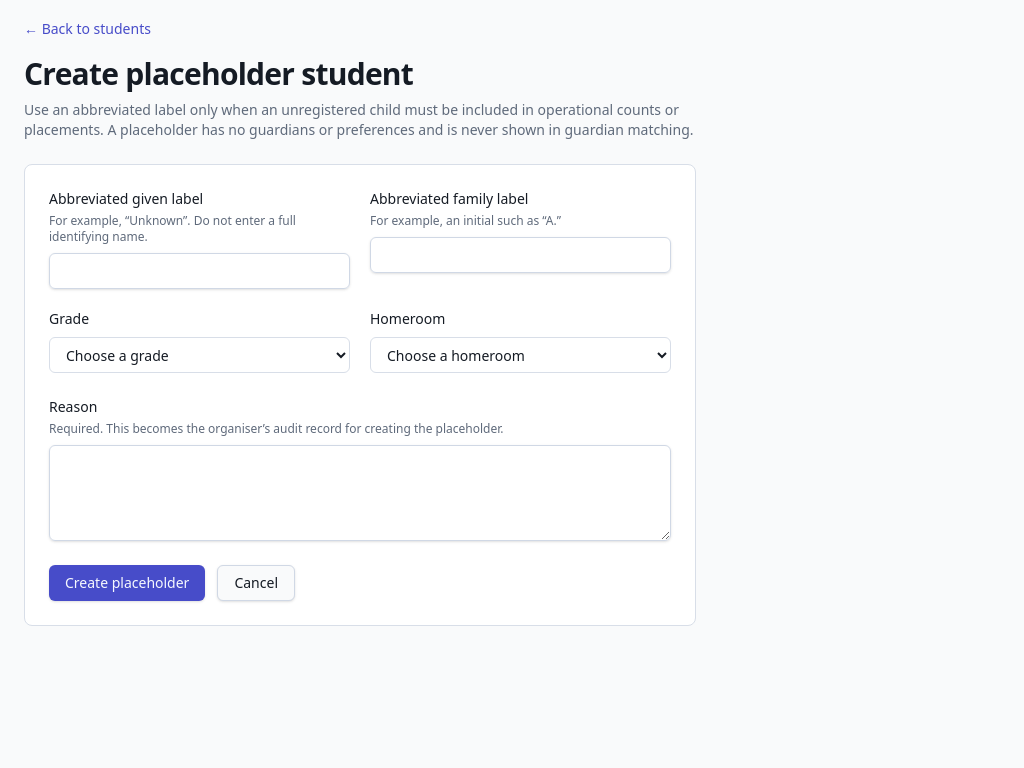
Test: placeholder workflows › creates an audited placeholder with an abbreviated label and vocabulary identifiers
In the field labelled "Abbreviated given label": point(200, 271) 49,253 -> 350,289, type "Unknown"
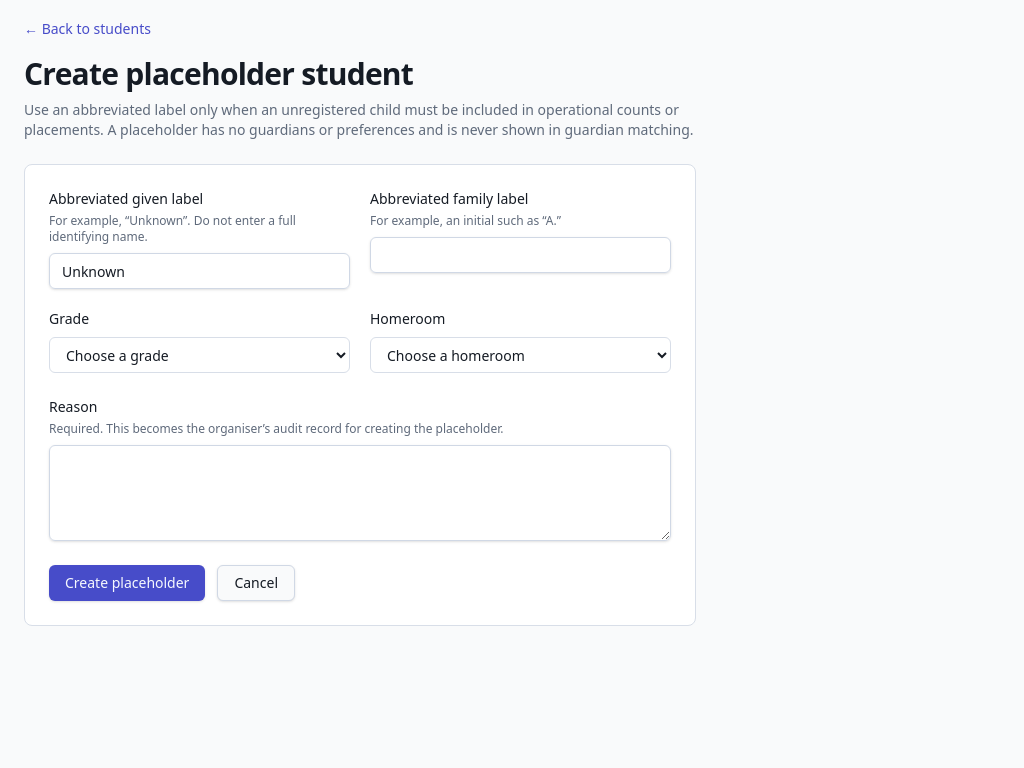
In the field labelled "Abbreviated family label": point(520, 255) 370,237 -> 671,273, type "A."
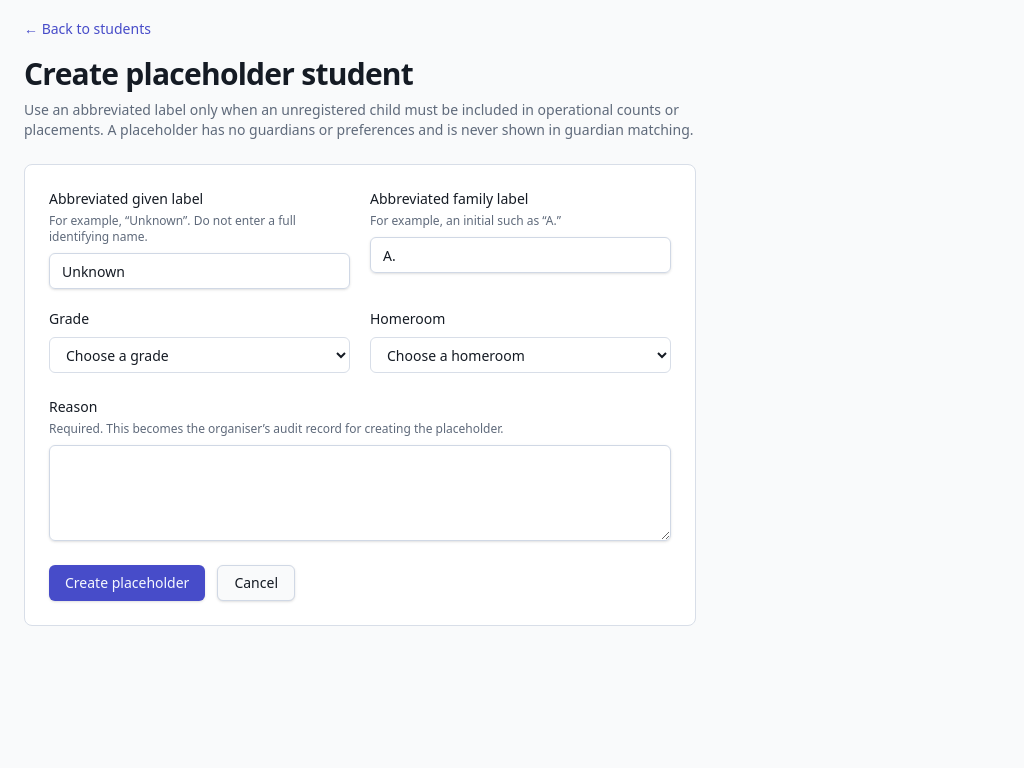
Select "First grade" in the dropdown labelled "Grade": point(200, 355) 49,337 -> 350,373
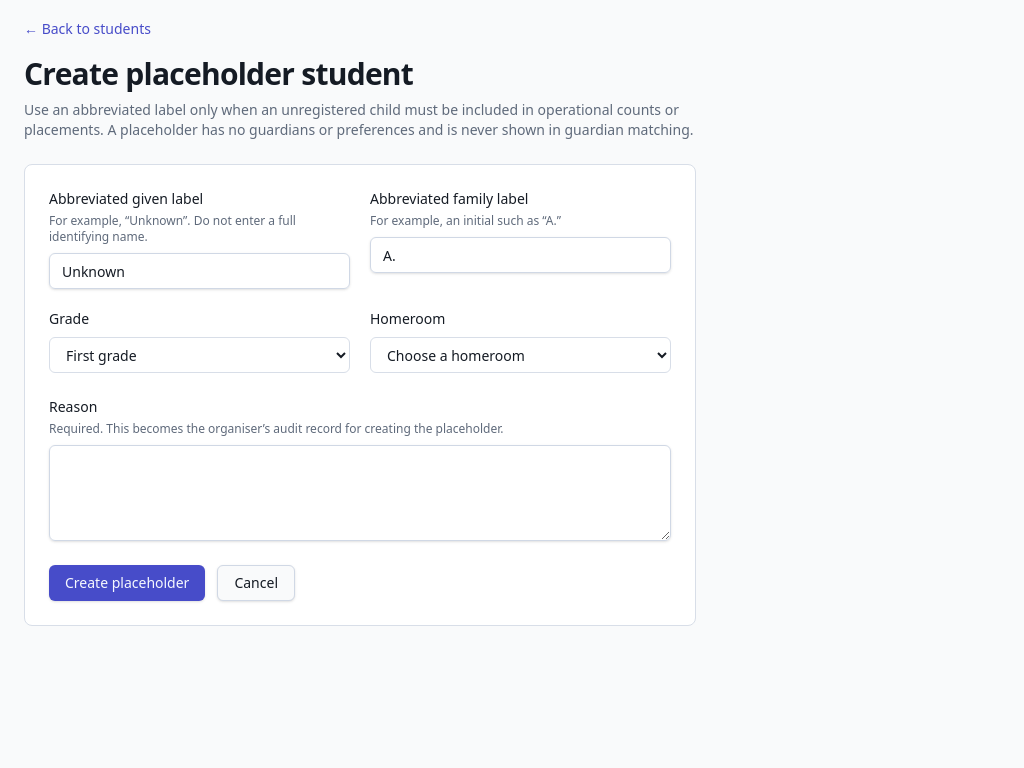
Select "Room A" in the dropdown labelled "Homeroom": point(520, 355) 370,337 -> 671,373
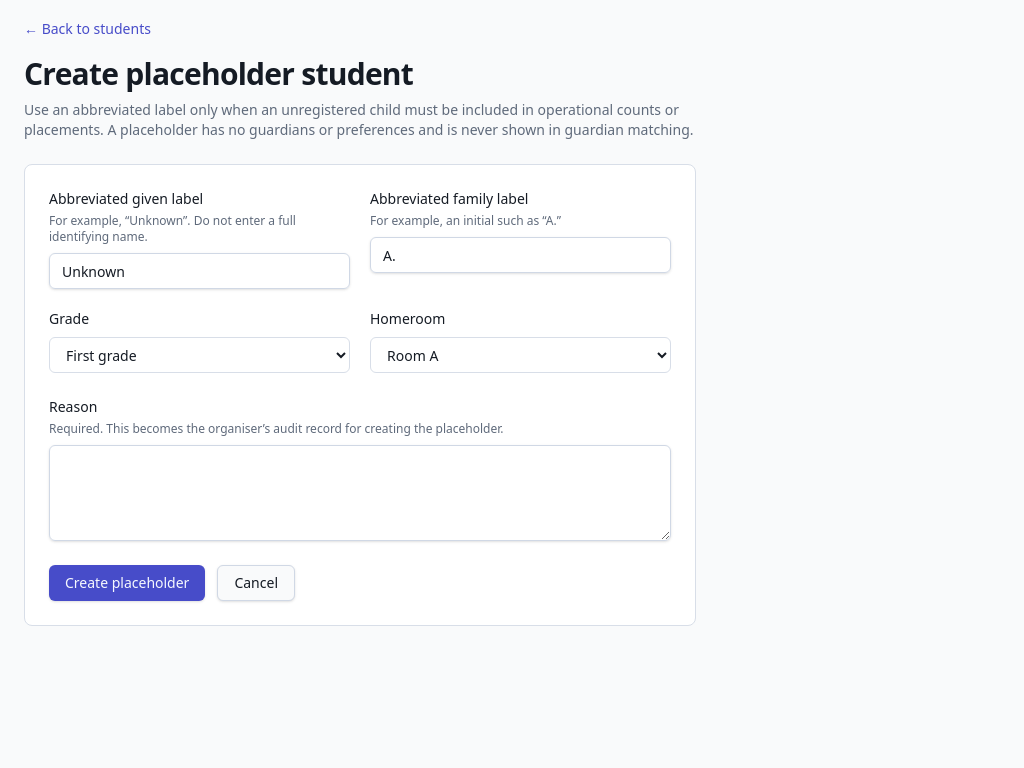
In the text box labelled "Reason": point(360, 493) 49,445 -> 671,541, type "Needed for workshop capacity."
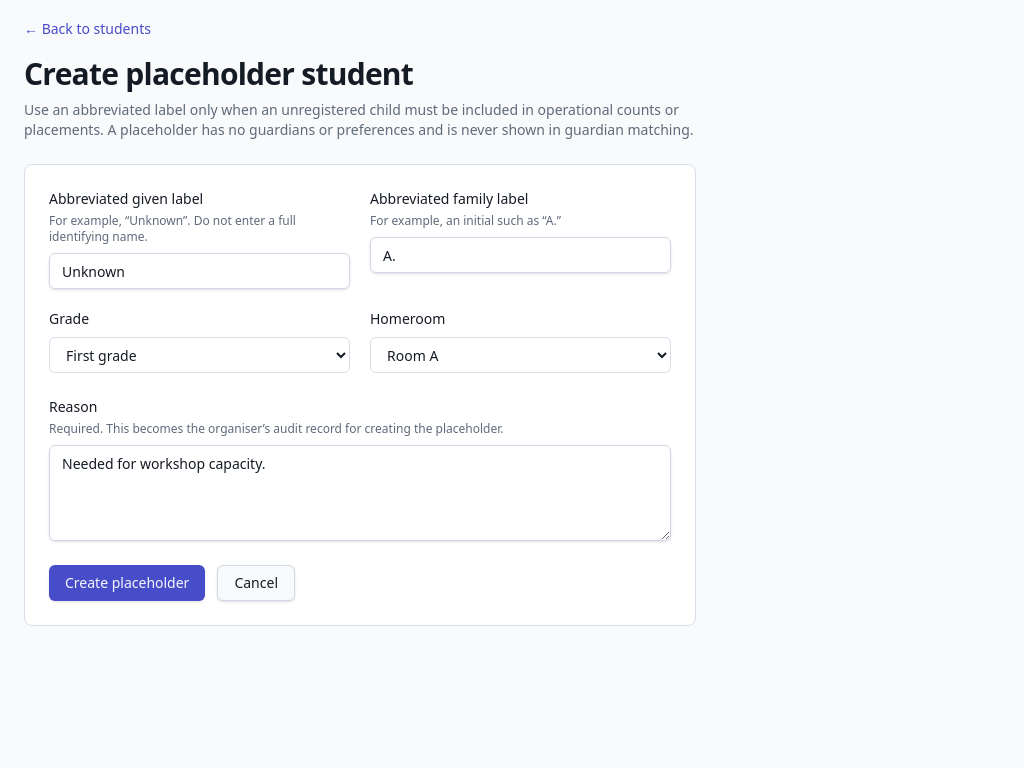
Click the button "Create placeholder": point(127, 583) 49,565 -> 205,601
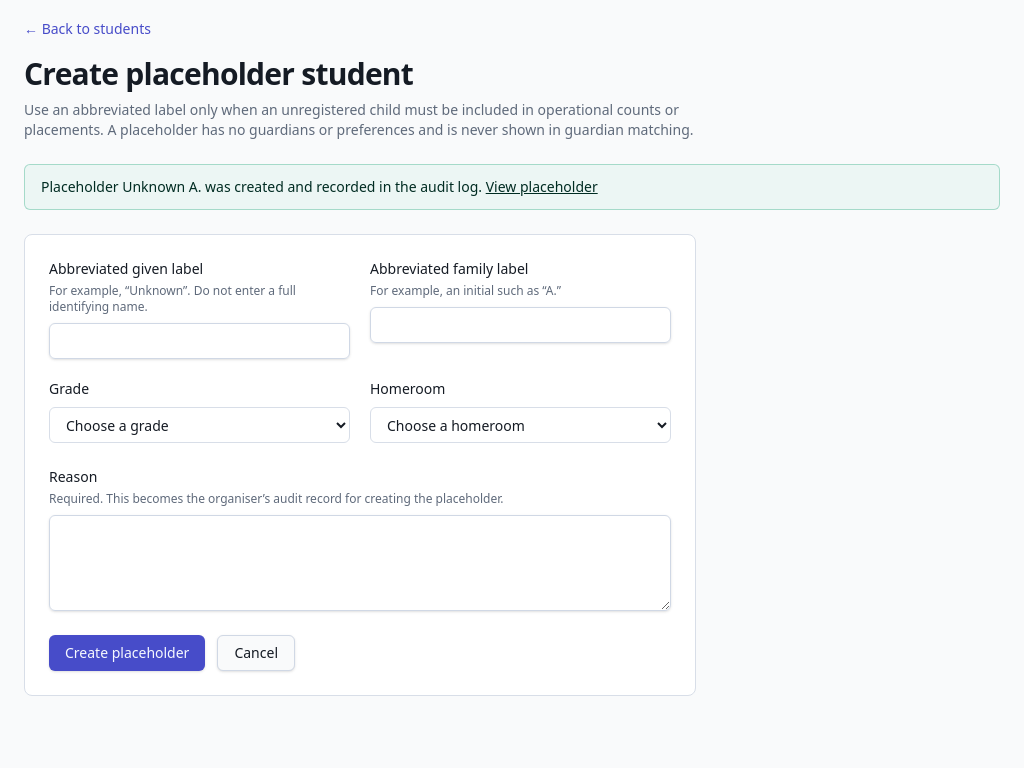
Expected: the message shows "Placeholder Unknown A. was created and recorded in the audit log.", 41,177 -> 486,196
